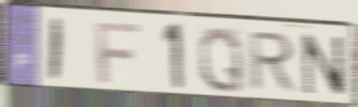1: (161, 20, 186, 93)
F: (93, 20, 142, 86)
I: (46, 15, 65, 84)
N: (299, 32, 349, 99)
Q: (196, 24, 246, 95)
R: (248, 30, 299, 94)
